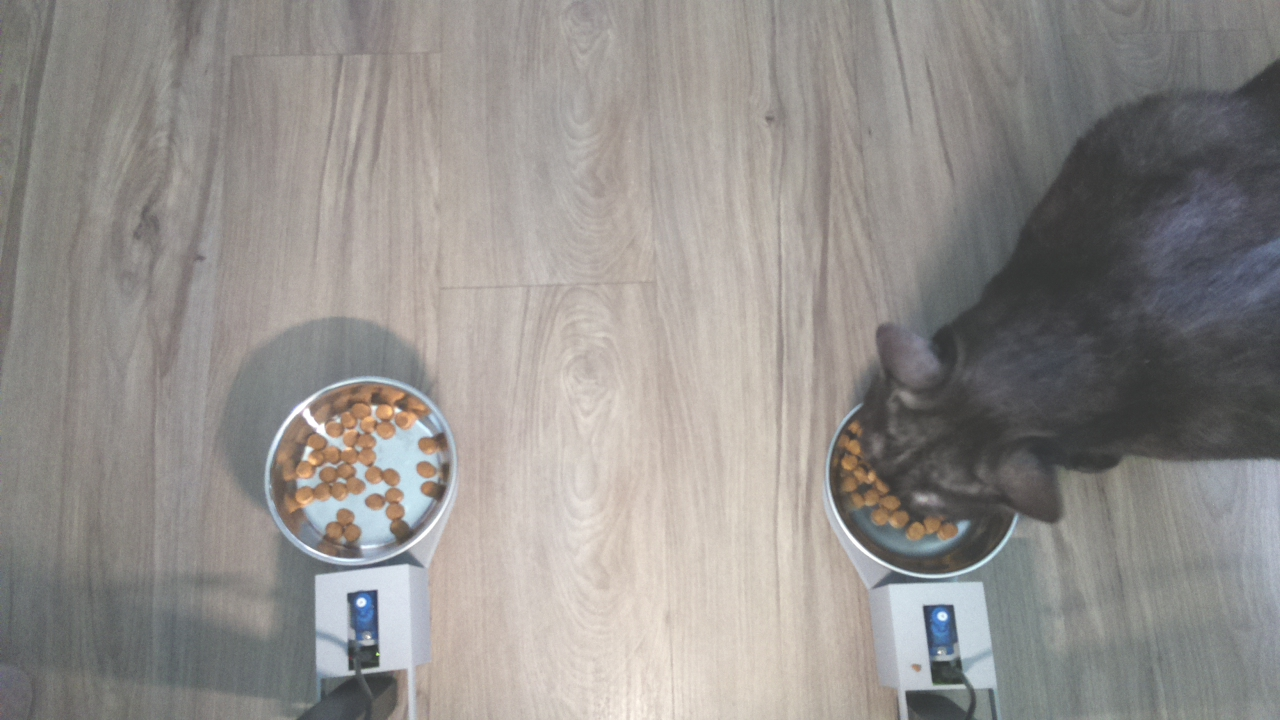open_bowl: (257, 370, 461, 571)
saki_eating: (814, 308, 1092, 592)
